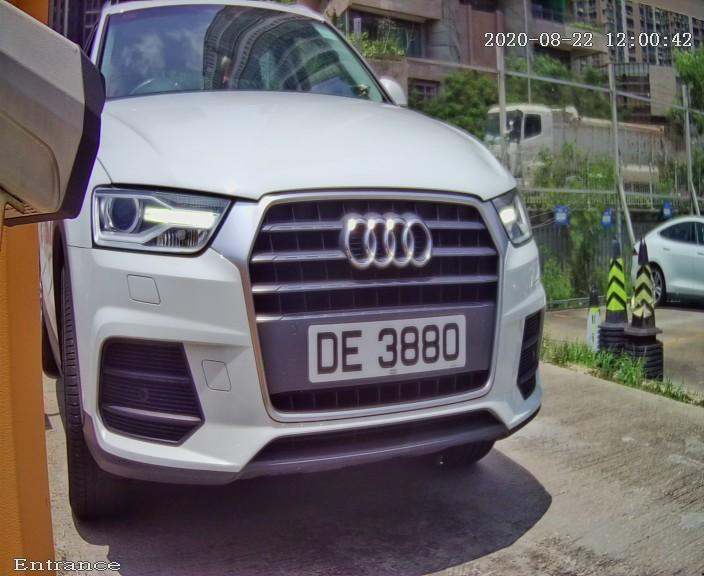License Plate: (299, 309, 481, 389)
